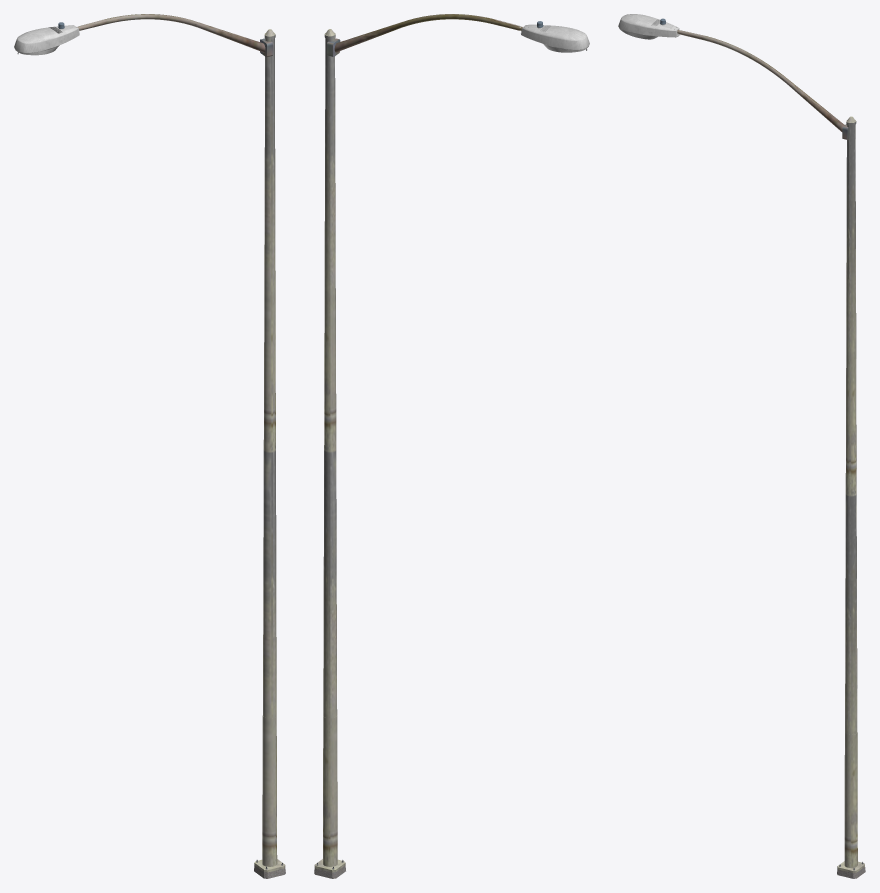
The model's file is streetlight.glb.
3 renders of one model, left to right at view 1: azimuth 30°, elevation 25°; view 2: azimuth 150°, elevation 25°; view 3: azimuth 330°, elevation 25°, orthographic. The views are drawn at different scales.
Parts seen in each view (by area): view 1: Material2 (×2), Material3; view 2: Material2 (×2), Material3; view 3: Material2 (×2), Material3.
Boxes of the visible parts, bbox=[...] form: Material2 (×2): bbox=[14, 25, 285, 872]; Material3: bbox=[77, 14, 265, 52]; Material2 (×2): bbox=[314, 24, 589, 872]; Material3: bbox=[334, 14, 522, 52]; Material2 (×2): bbox=[618, 14, 864, 872]; Material3: bbox=[677, 30, 844, 131].
Size of what is drawn, in the model's own units: 153 by 493 by 15.54.
Materials: 35 (17 with a texture image).
